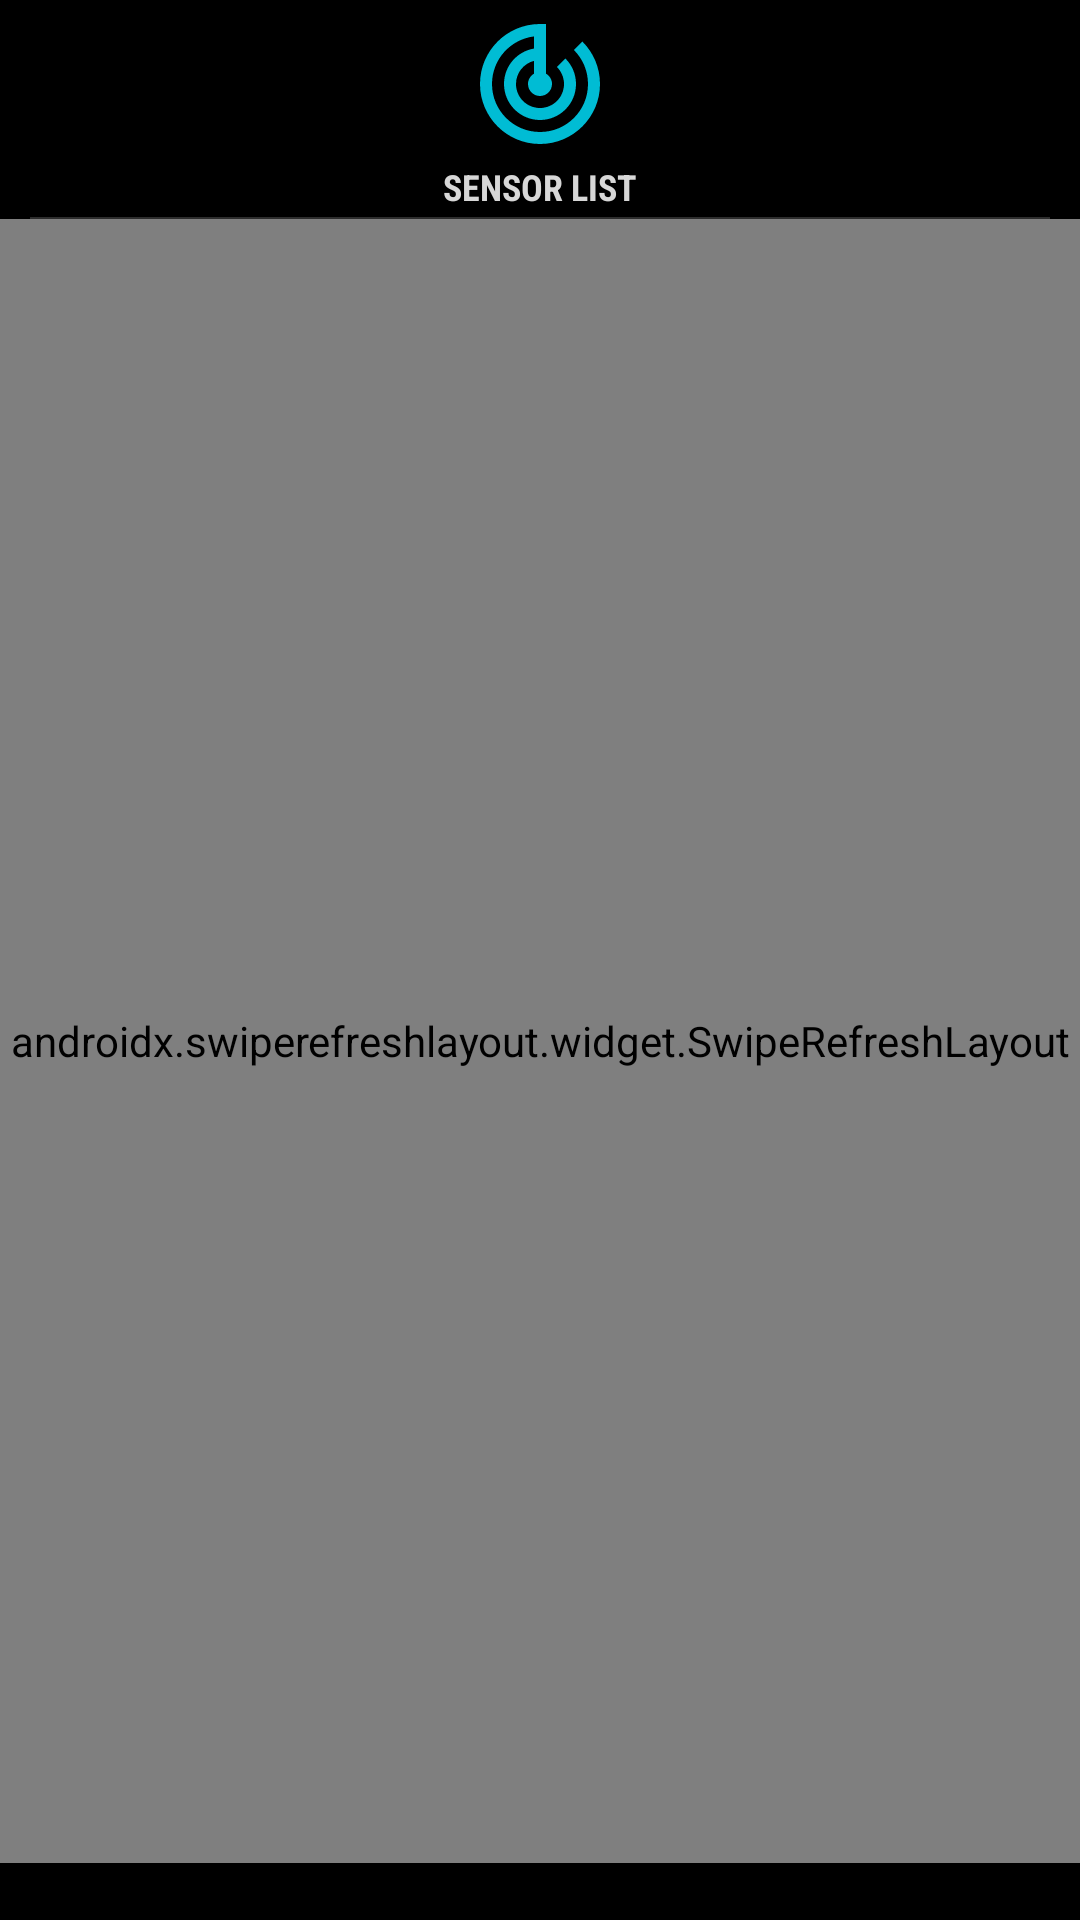

Icon bounding boxes for this 1080 × 1920 phone screenshot, format (x1, y1, x2, y2):
Sensor Info: (480, 24, 600, 144)
